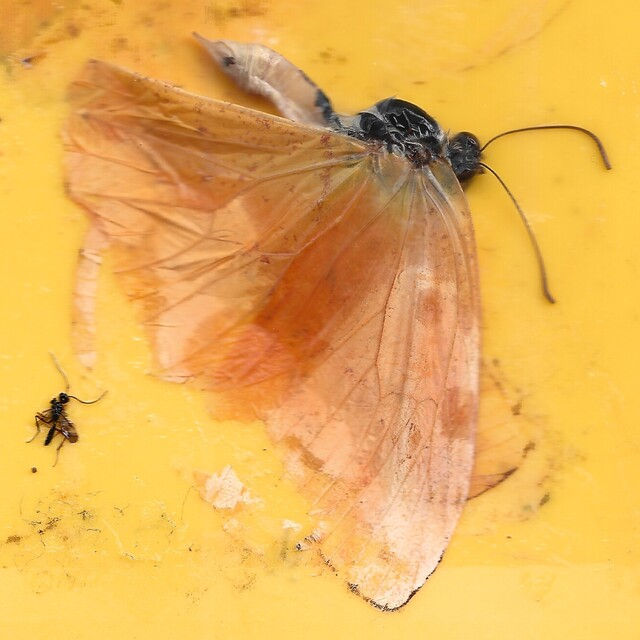Hymenoptera: (27, 354, 108, 463)
Lepidoptera: (62, 29, 613, 611)
